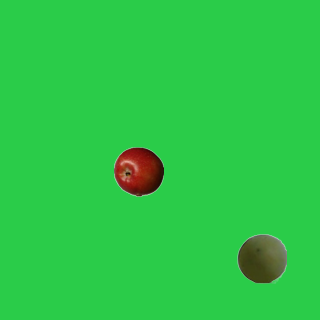Apple Braeburn: (113, 146, 163, 196)
Grape White 4: (236, 233, 286, 283)
